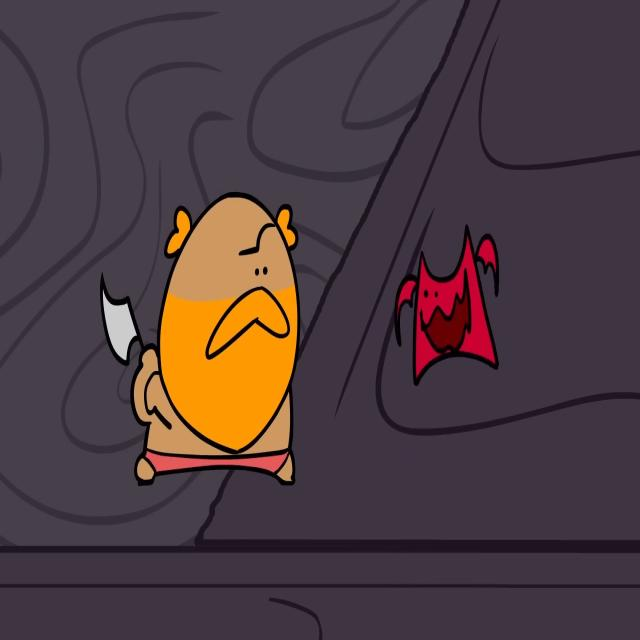Haagen-Daz: (130, 192, 301, 487)
